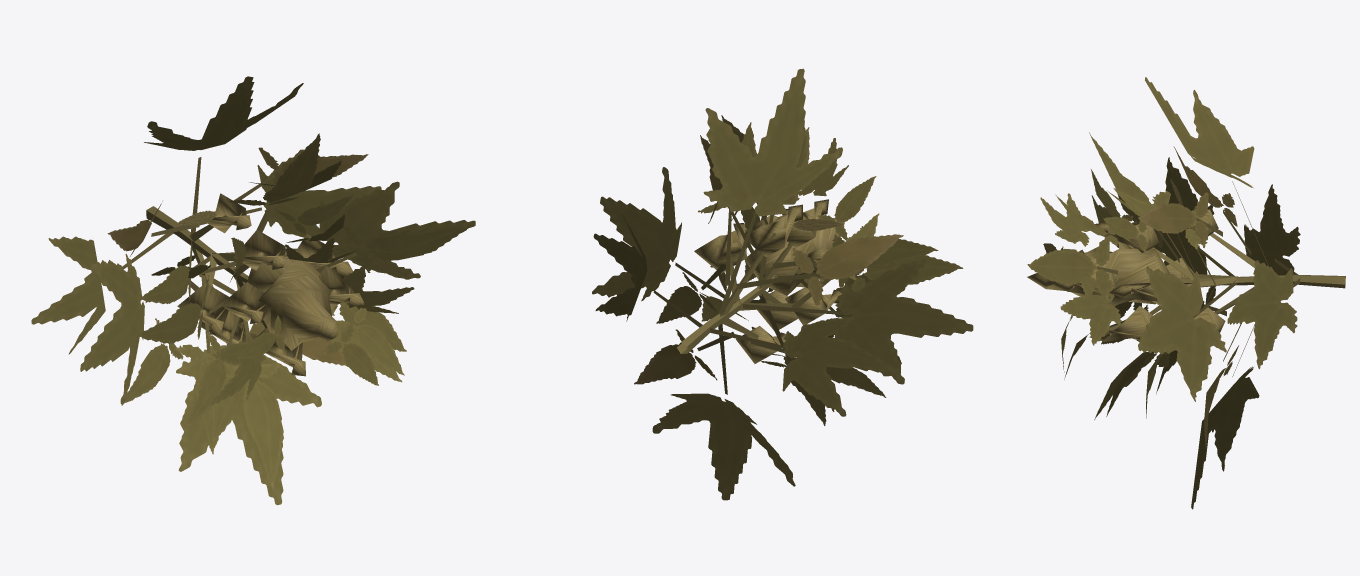
The model's file is p_auto_ripe_c2_cards.obj.
The picture shows the model from 3 angles, left to right: view 1: azimuth 30°, elevation 25°; view 2: azimuth 150°, elevation 25°; view 3: azimuth 270°, elevation 25°; orthographic projection. The views are drawn at different scales.
Size of the model in its own units: 1.45 by 1.57 by 0.952.
Materials: 1 (1 with a texture image).
